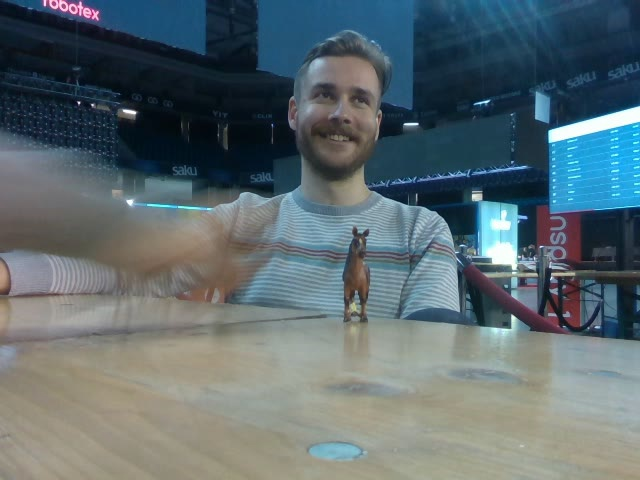toy: (338, 222, 379, 328)
